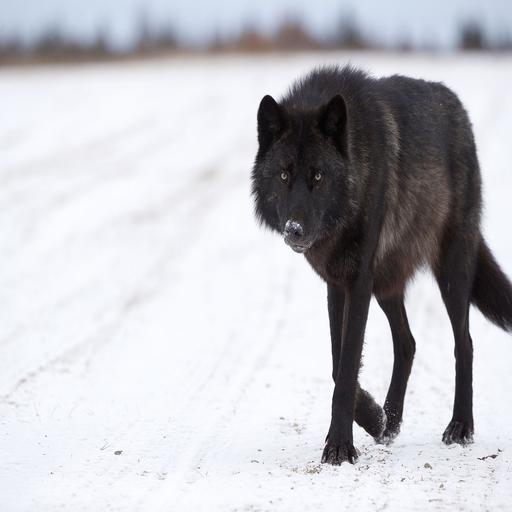Wolf: (242, 67, 512, 475)
